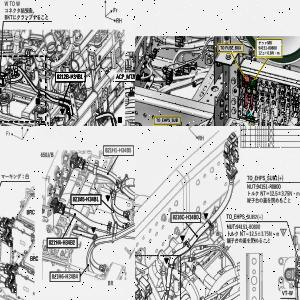PartNumber: (73, 196, 100, 203), (49, 239, 75, 246), (256, 183, 281, 190), (105, 147, 132, 153), (172, 214, 199, 220), (57, 74, 83, 80), (52, 273, 78, 279), (236, 224, 261, 230), (258, 45, 278, 50)
